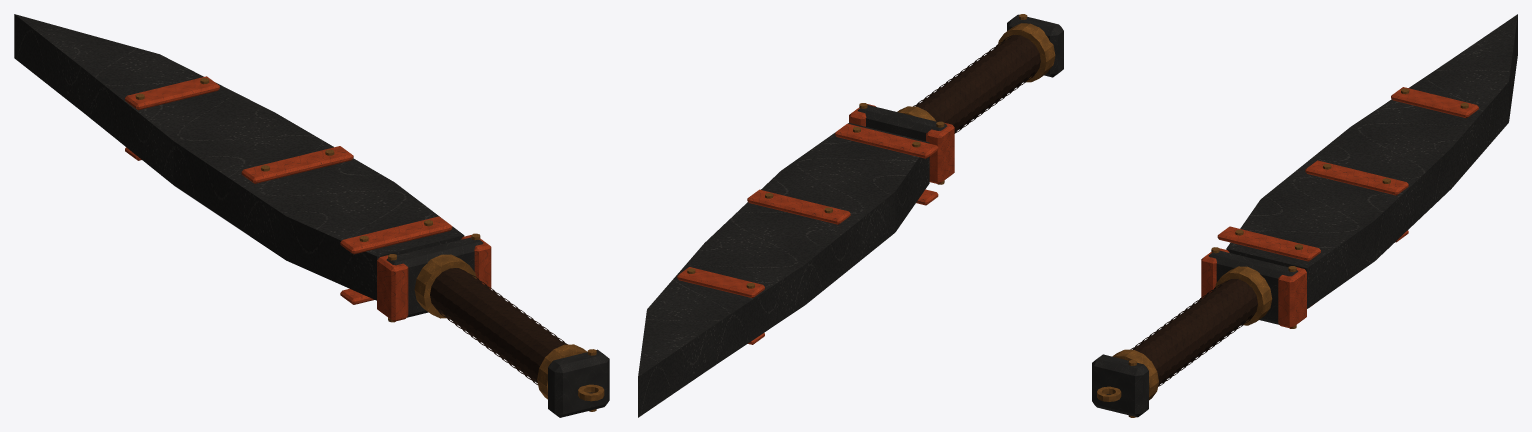
The model's file is kiln-sword-stowed.glb.
3 views of the same model, side by side, from view 1: azimuth 30°, elevation 25°; view 2: azimuth 150°, elevation 25°; view 3: azimuth 330°, elevation 25° (orthographic). The views are drawn at different scales.
Visible parts, largest first — view 1: Forged fitted scabbard, Grip core, Pommel iron cap, Guard iron block, Ceramic guard cheek, Ceramic scabbard strap.003, Ceramic scabbard strap.001, Ceramic scabbard strap.005, Brass grip ferrule.001, Brass grip ferrule, Ceramic guard cheek.001; view 2: Forged fitted scabbard, Grip core, Guard iron block, Ceramic scabbard strap.001, Ceramic scabbard strap.003, Ceramic guard cheek, Ceramic scabbard strap.005, Brass grip ferrule, Pommel iron cap; view 3: Forged fitted scabbard, Grip core, Pommel iron cap, Guard iron block, Ceramic guard cheek.001, Ceramic scabbard strap.001, Ceramic scabbard strap.003, Ceramic scabbard strap.005, Brass grip ferrule.001, Brass grip ferrule, Ceramic guard cheek.
Part boxes in pixels (x1,y1,x2,y2): Forged fitted scabbard: (14, 14, 464, 300); Grip core: (430, 268, 565, 383); Pommel iron cap: (548, 349, 609, 417); Guard iron block: (386, 237, 483, 317); Ceramic guard cheek: (377, 255, 408, 321); Ceramic scabbard strap.003: (241, 146, 353, 183); Ceramic scabbard strap.001: (340, 216, 452, 254); Ceramic scabbard strap.005: (125, 76, 219, 110); Brass grip ferrule.001: (414, 254, 476, 318); Brass grip ferrule: (537, 344, 587, 399); Ceramic guard cheek.001: (461, 235, 491, 289); Forged fitted scabbard: (638, 123, 929, 417); Grip core: (915, 37, 1040, 131); Guard iron block: (858, 105, 947, 141); Ceramic scabbard strap.001: (835, 123, 938, 158); Ceramic scabbard strap.003: (747, 189, 850, 224); Ceramic guard cheek: (926, 123, 954, 184); Ceramic scabbard strap.005: (677, 267, 764, 298); Brass grip ferrule: (998, 23, 1055, 82); Pommel iron cap: (1007, 14, 1063, 77); Forged fitted scabbard: (1226, 14, 1517, 308); Grip core: (1132, 279, 1257, 383); Pommel iron cap: (1092, 354, 1148, 417); Guard iron block: (1208, 250, 1297, 324); Ceramic guard cheek.001: (1278, 267, 1306, 328); Ceramic scabbard strap.001: (1217, 226, 1320, 261); Ceramic scabbard strap.003: (1305, 160, 1408, 195); Ceramic scabbard strap.005: (1391, 87, 1478, 118); Brass grip ferrule.001: (1215, 266, 1272, 325); Brass grip ferrule: (1112, 349, 1158, 400); Ceramic guard cheek: (1201, 248, 1229, 298).
Bounding box in the file's own units: 0.1905 × 0.092 × 1.33.
Materials: 4 (4 with a texture image).
